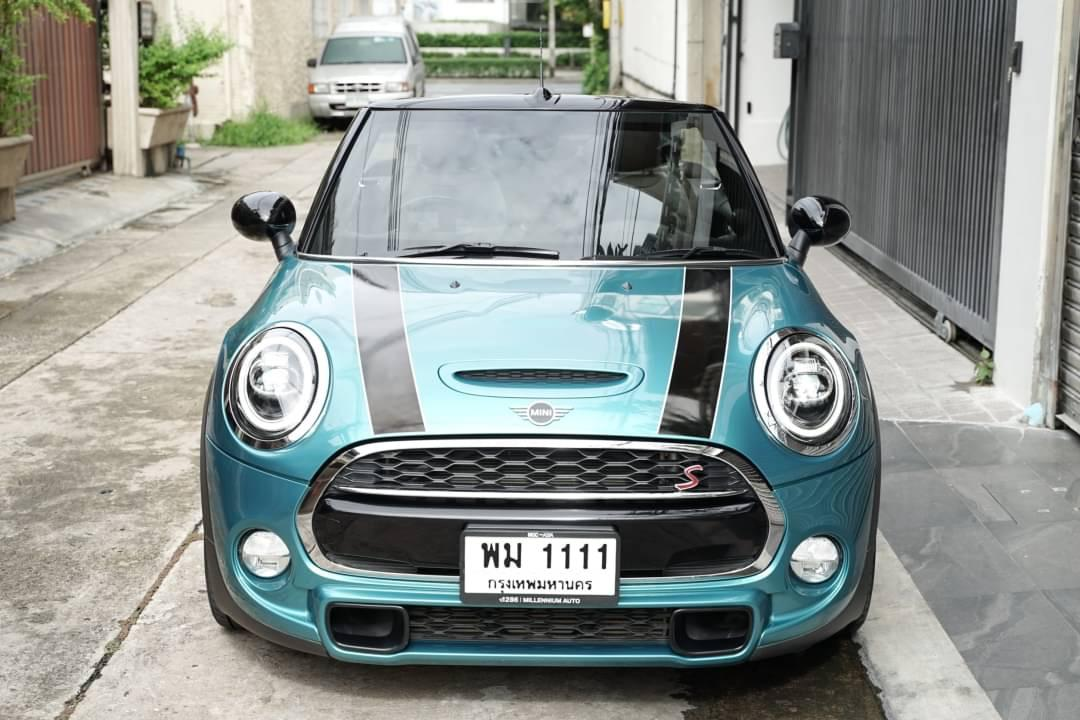license-plate: (451, 516, 627, 618)
